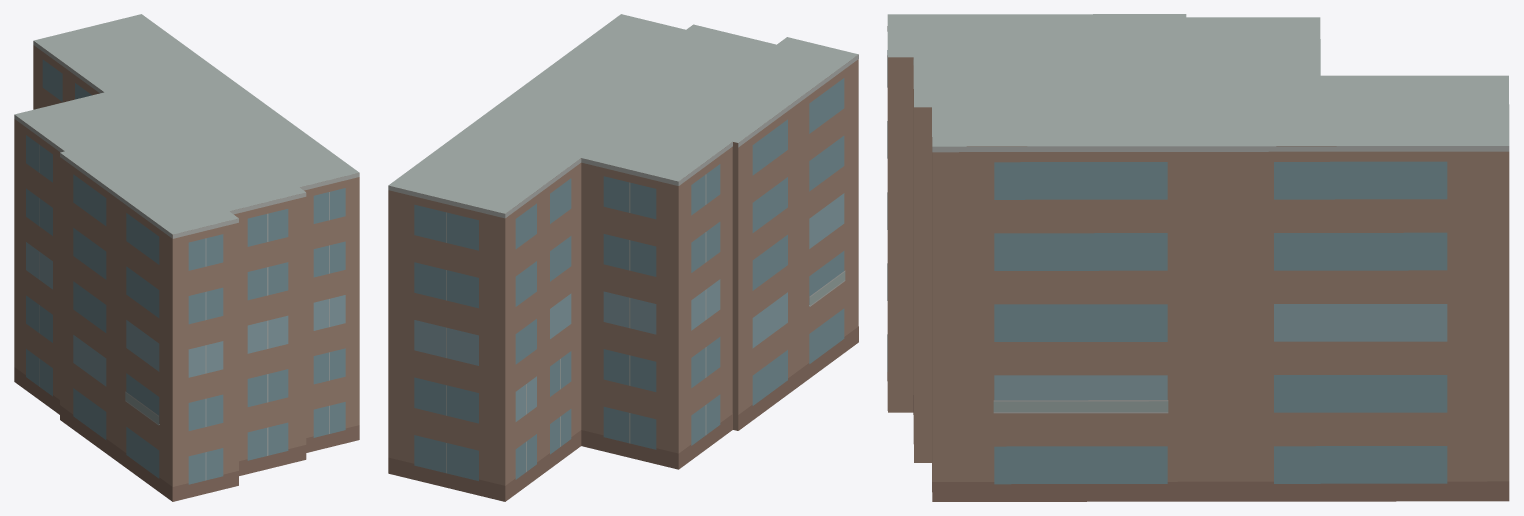
File: survey-upis-32665099.glb
3 renders of one model, left to right at view 1: azimuth 30°, elevation 25°; view 2: azimuth 150°, elevation 25°; view 3: azimuth 270°, elevation 25°, orthographic. The views are drawn at different scales.
Parts seen in each view (by area): view 1: survey-upis-32665099.tmp; view 2: survey-upis-32665099.tmp; view 3: survey-upis-32665099.tmp.
Part boxes in pixels (x1,y1,x2,y2): survey-upis-32665099.tmp: (14,14,359,501); survey-upis-32665099.tmp: (388,14,858,501); survey-upis-32665099.tmp: (887,14,1509,501).
Bounding box in the file's own units: 12.25 × 15.25 × 24.19.
